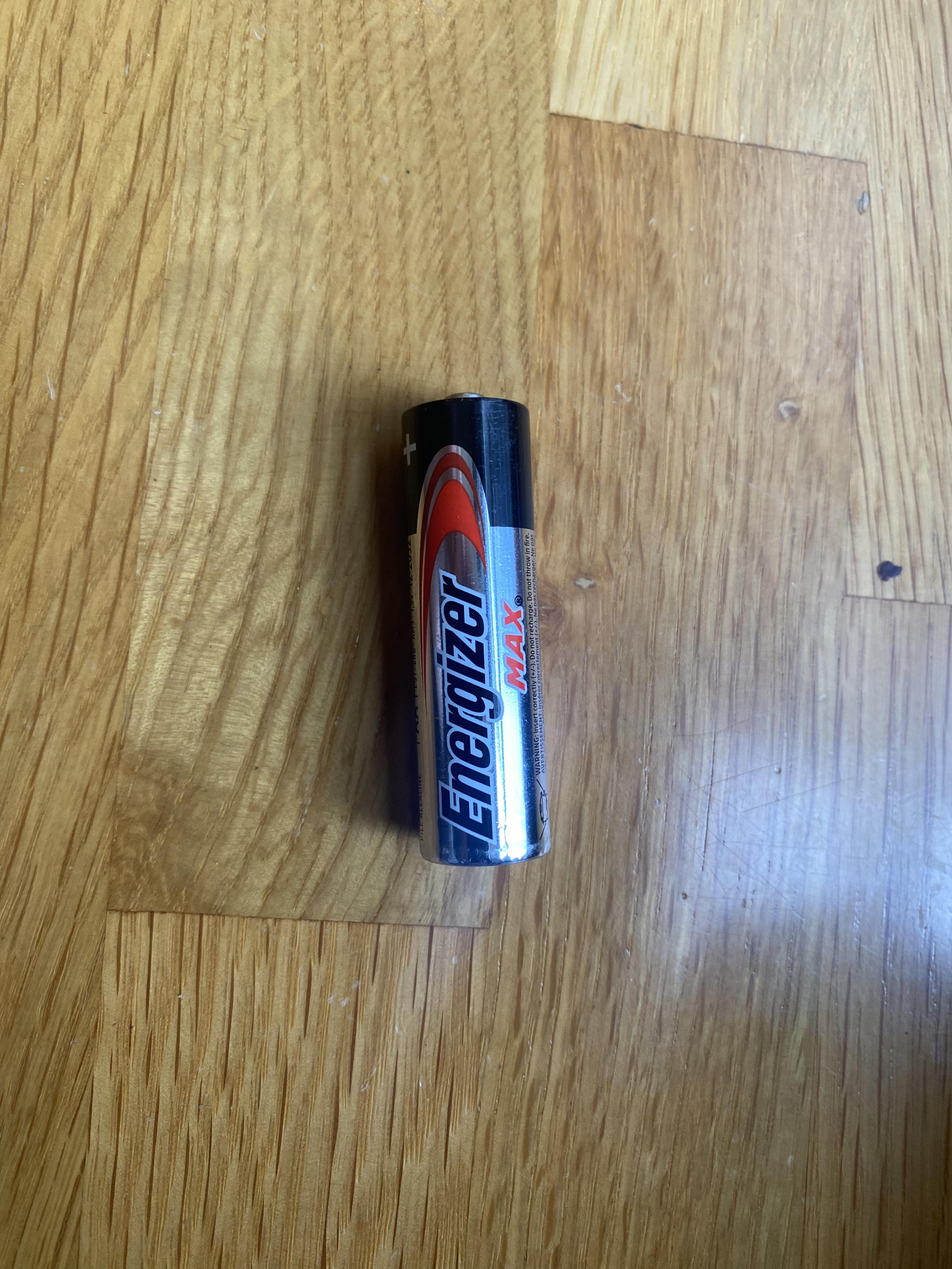AA: (399, 391, 552, 866)
